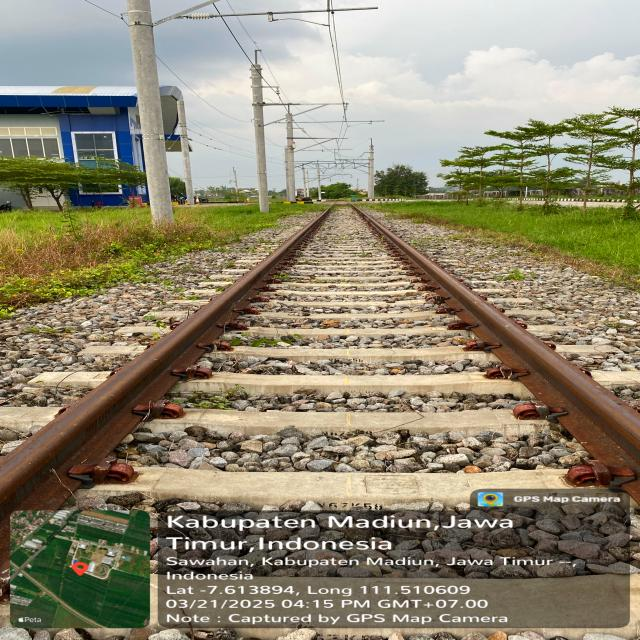rail-detection: (0, 210, 330, 565), (350, 207, 640, 478)
